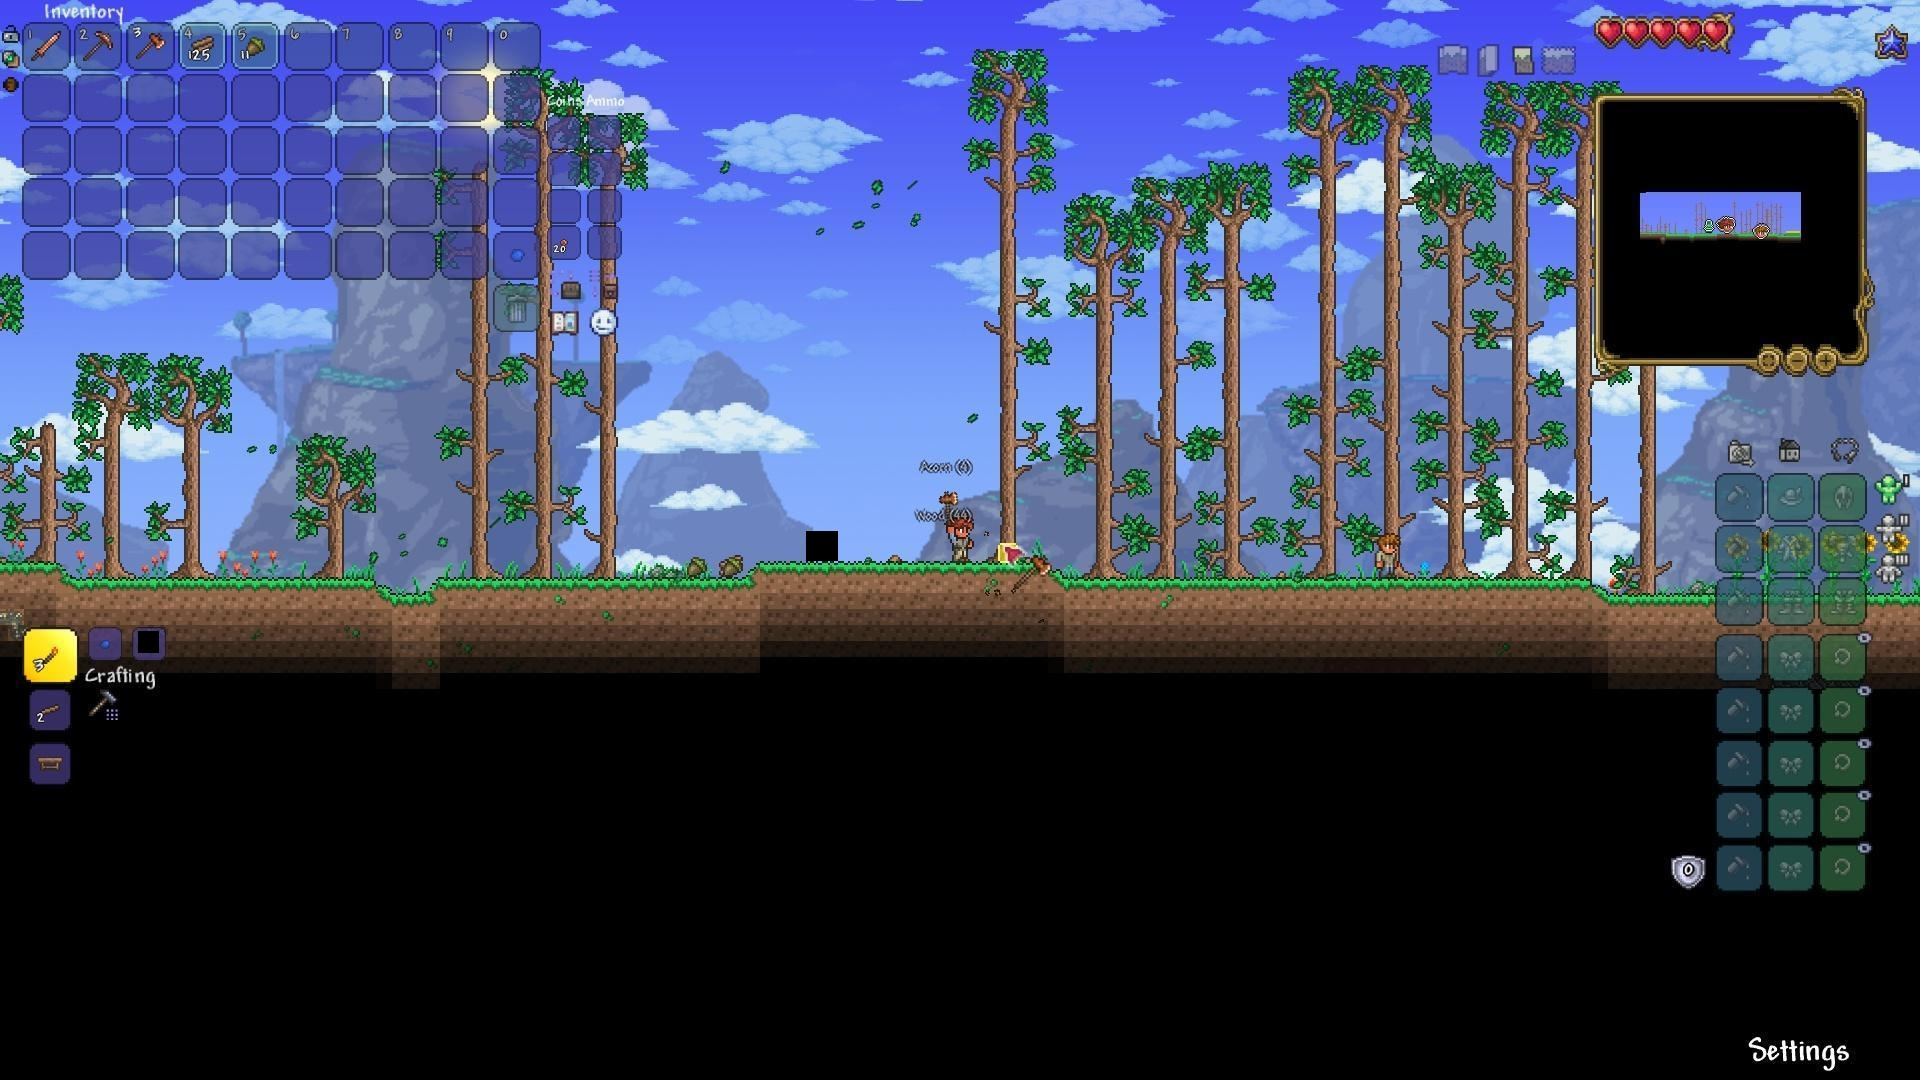wood: (189, 33, 216, 54)
workbench: (36, 753, 67, 775)
